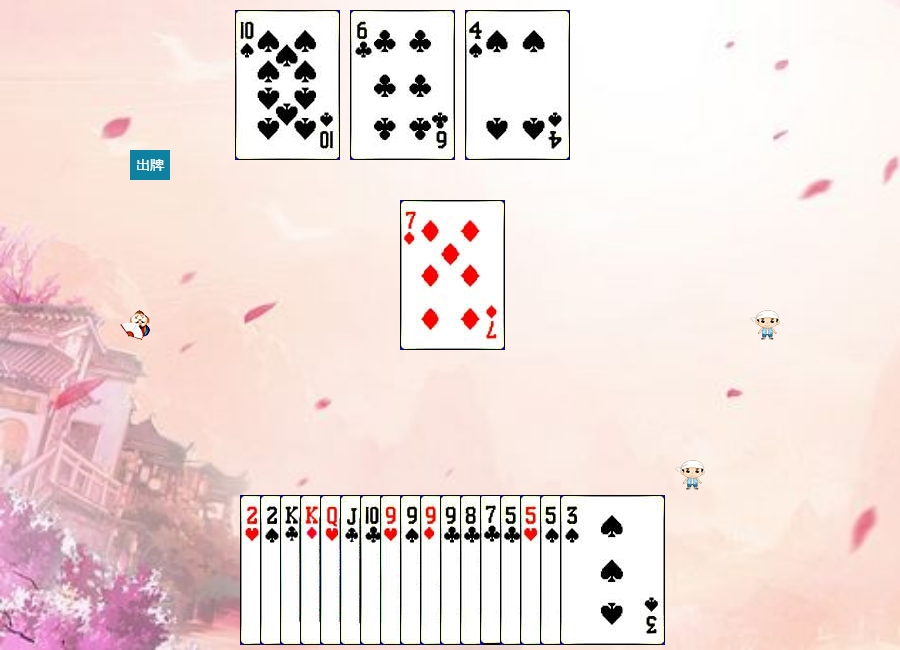10~2: (360, 495, 465, 645)
10~4: (235, 10, 340, 160)
11~2: (340, 495, 445, 645)
12~3: (320, 495, 425, 645)
13~1: (300, 495, 405, 645)
13~2: (280, 495, 385, 645)
15~3: (240, 495, 345, 645)
15~4: (260, 495, 365, 645)
3~4: (560, 495, 665, 645)
4~4: (465, 10, 570, 160)
5~2: (500, 495, 605, 645)
5~3: (520, 495, 625, 645)
5~4: (540, 495, 645, 645)
6~2: (350, 10, 455, 160)
7~1: (400, 200, 505, 350)
7~2: (480, 495, 585, 645)
8~2: (460, 495, 565, 645)
9~1: (420, 495, 525, 645)
9~2: (440, 495, 545, 645)
9~3: (380, 495, 485, 645)
9~4: (400, 495, 505, 645)
